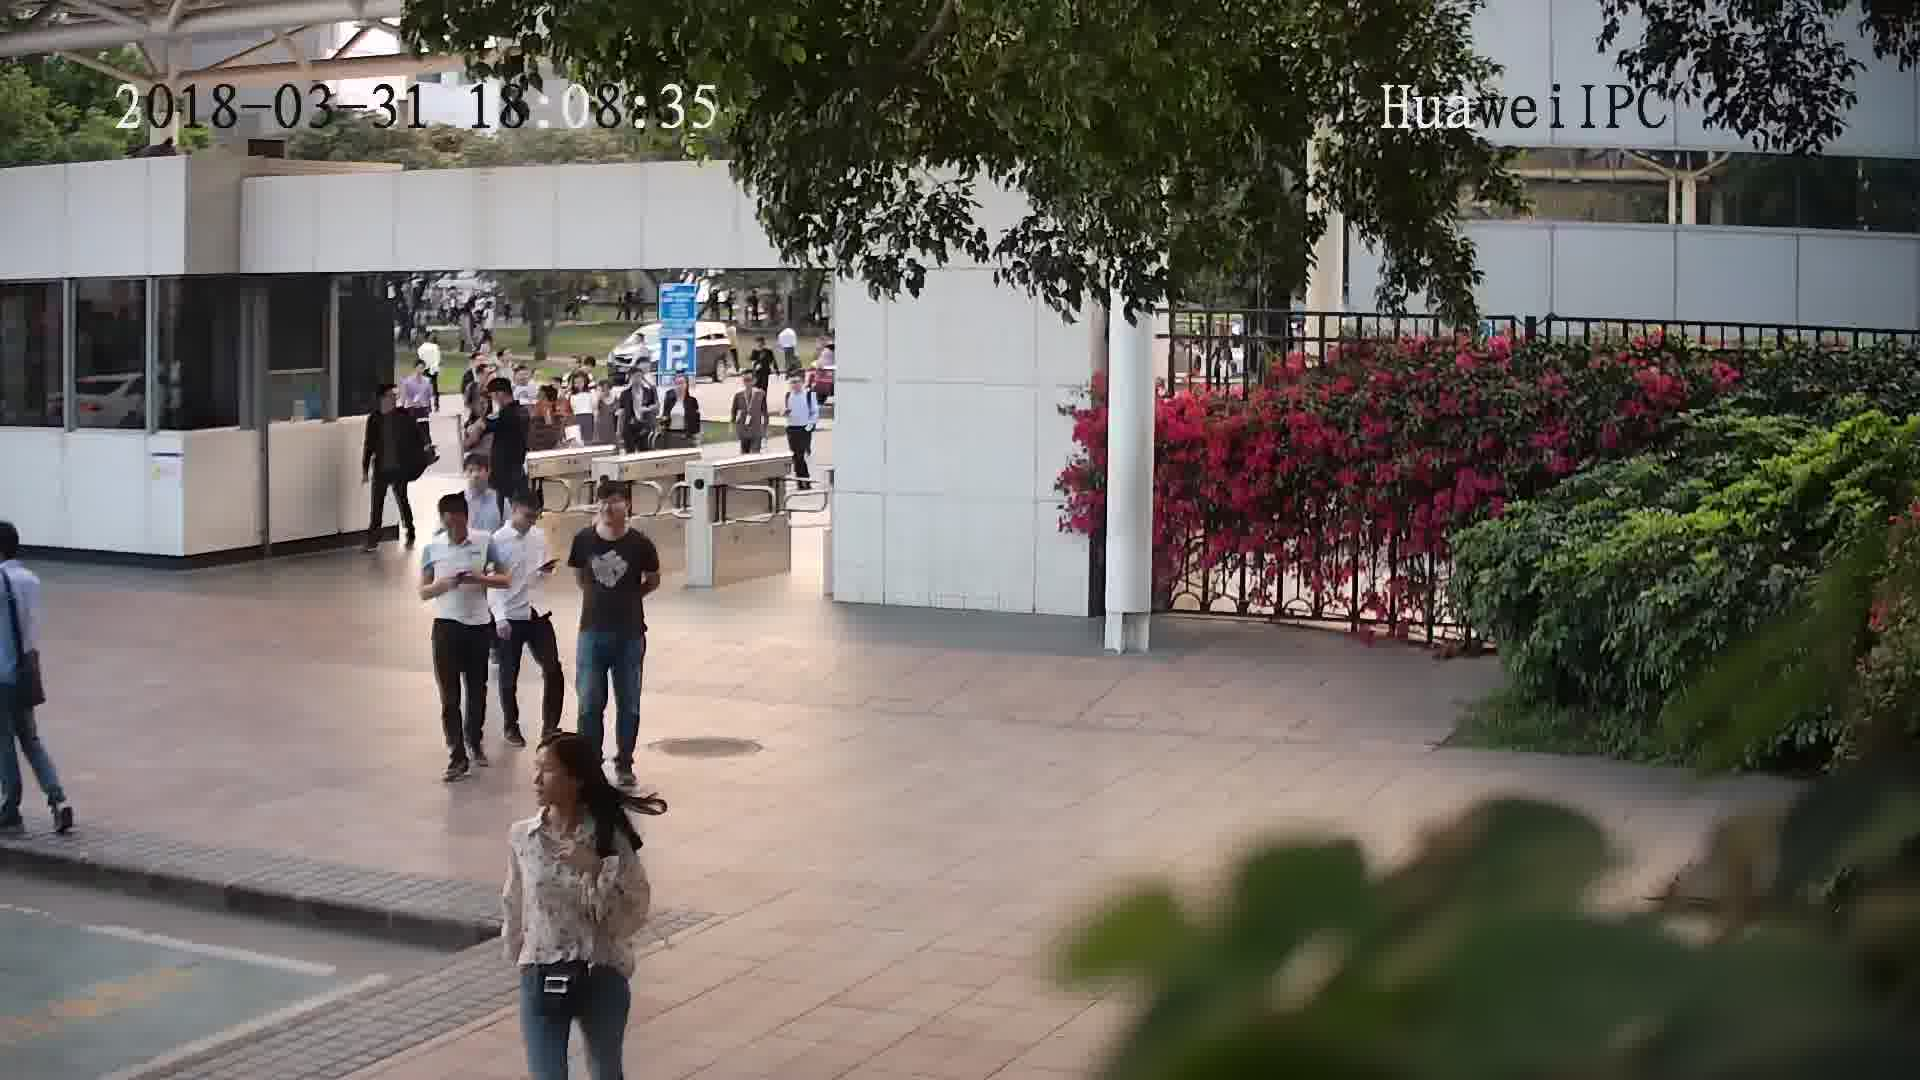face: (517, 744, 579, 806)
person: (505, 733, 636, 859), (570, 481, 655, 554), (422, 488, 501, 562), (490, 481, 548, 552), (1, 518, 48, 604), (448, 451, 503, 509), (362, 379, 414, 428), (485, 373, 528, 425), (619, 359, 661, 404), (395, 349, 434, 393), (661, 371, 701, 410), (732, 371, 769, 408), (589, 379, 624, 416), (566, 370, 597, 405), (787, 368, 818, 402)
